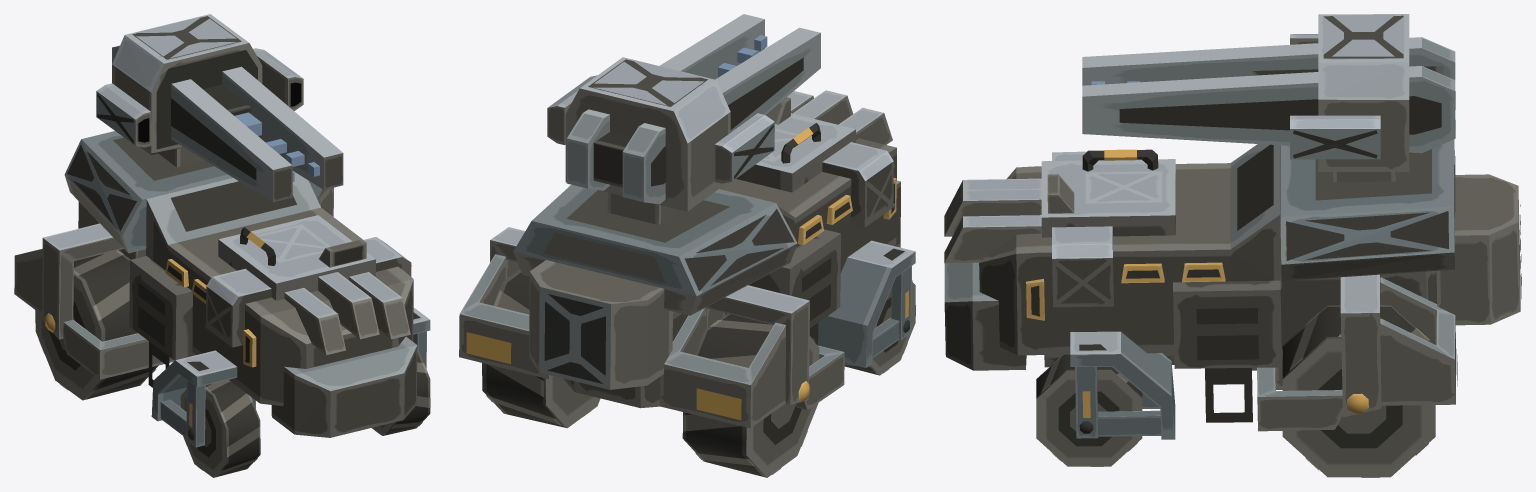
File: Army5.FBX
3 views of the same model, side by side, from view 1: azimuth 30°, elevation 25°; view 2: azimuth 150°, elevation 25°; view 3: azimuth 270°, elevation 25° (orthographic). The views are drawn at different scales.
Parts seen in each view (by area): view 1: Army5, C1, Tires3, C3, C2, Tires1, box2, C4, box3, box1, C5, Tires2 (+1 smaller); view 2: Army5, Tires3, C1, C3, C2, C4, Tires1, box2, box3, C5, C8; view 3: Army5, C2, Tires3, C1, C3, Tires2, C5, box1, box2, box3.
Boxes of the visible parts, left/top/right/bottom form: Army5: left=14, top=131, right=430, bottom=447; C1: left=112, top=14, right=262, bottom=154; Tires3: left=35, top=250, right=158, bottom=400; C3: left=112, top=45, right=292, bottom=202; C2: left=222, top=66, right=343, bottom=189; Tires1: left=180, top=379, right=260, bottom=477; box2: left=318, top=272, right=379, bottom=339; C4: left=96, top=83, right=151, bottom=147; box3: left=284, top=288, right=345, bottom=355; box1: left=349, top=272, right=410, bottom=339; C5: left=253, top=48, right=303, bottom=110; Tires2: left=372, top=346, right=430, bottom=435; Army5: left=459, top=97, right=915, bottom=428; Tires3: left=482, top=269, right=819, bottom=477; C1: left=565, top=57, right=730, bottom=211; C3: left=622, top=27, right=820, bottom=204; C2: left=566, top=14, right=764, bottom=190; C4: left=714, top=113, right=774, bottom=183; Tires1: left=844, top=280, right=915, bottom=375; box2: left=793, top=90, right=853, bottom=124; box3: left=838, top=107, right=892, bottom=144; C5: left=547, top=75, right=597, bottom=144; C8: left=718, top=35, right=767, bottom=77; Army5: left=944, top=139, right=1521, bottom=439; C2: left=1082, top=66, right=1455, bottom=153; Tires3: left=1282, top=305, right=1435, bottom=477; C1: left=1252, top=14, right=1443, bottom=171; C3: left=1082, top=37, right=1455, bottom=109; Tires2: left=1036, top=354, right=1142, bottom=466; C5: left=1290, top=115, right=1380, bottom=159; box1: left=944, top=215, right=1041, bottom=263; box2: left=944, top=188, right=1041, bottom=236; box3: left=944, top=178, right=1041, bottom=225.
Bounding box in the file's own units: 66.7 × 101 × 72.34.
